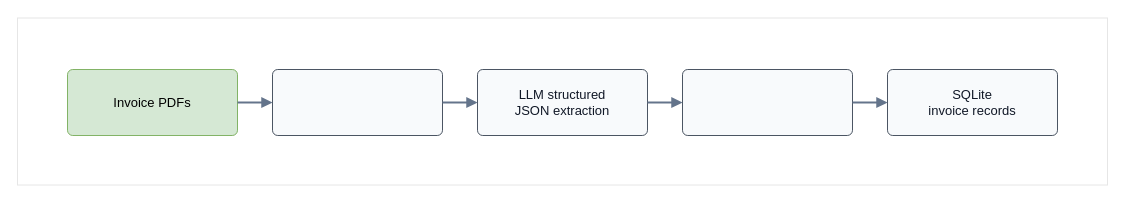
This 1125x202 diagram has some shape labels left out. Here are the shapes that lost their labels. From the top down, the centre of each, then its label:
At pixel 357 102: "Extract text with Python".
At pixel 767 102: "Validate schema".
